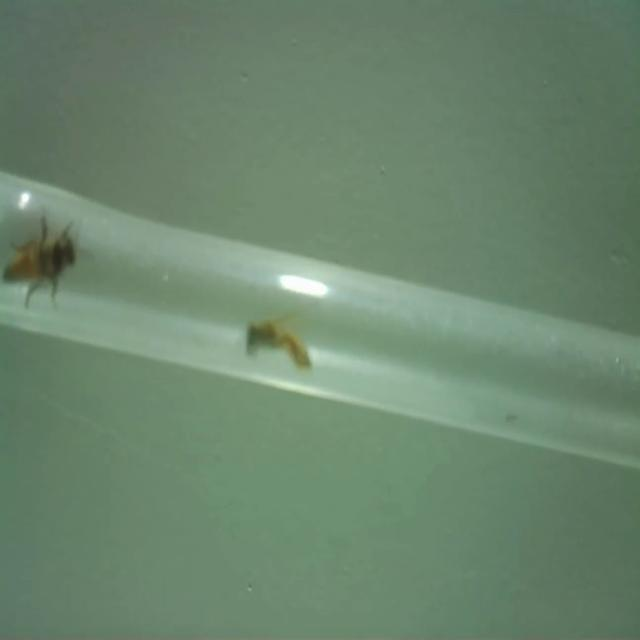Honeybee-Detection: (2, 209, 96, 311), (247, 319, 311, 369)
